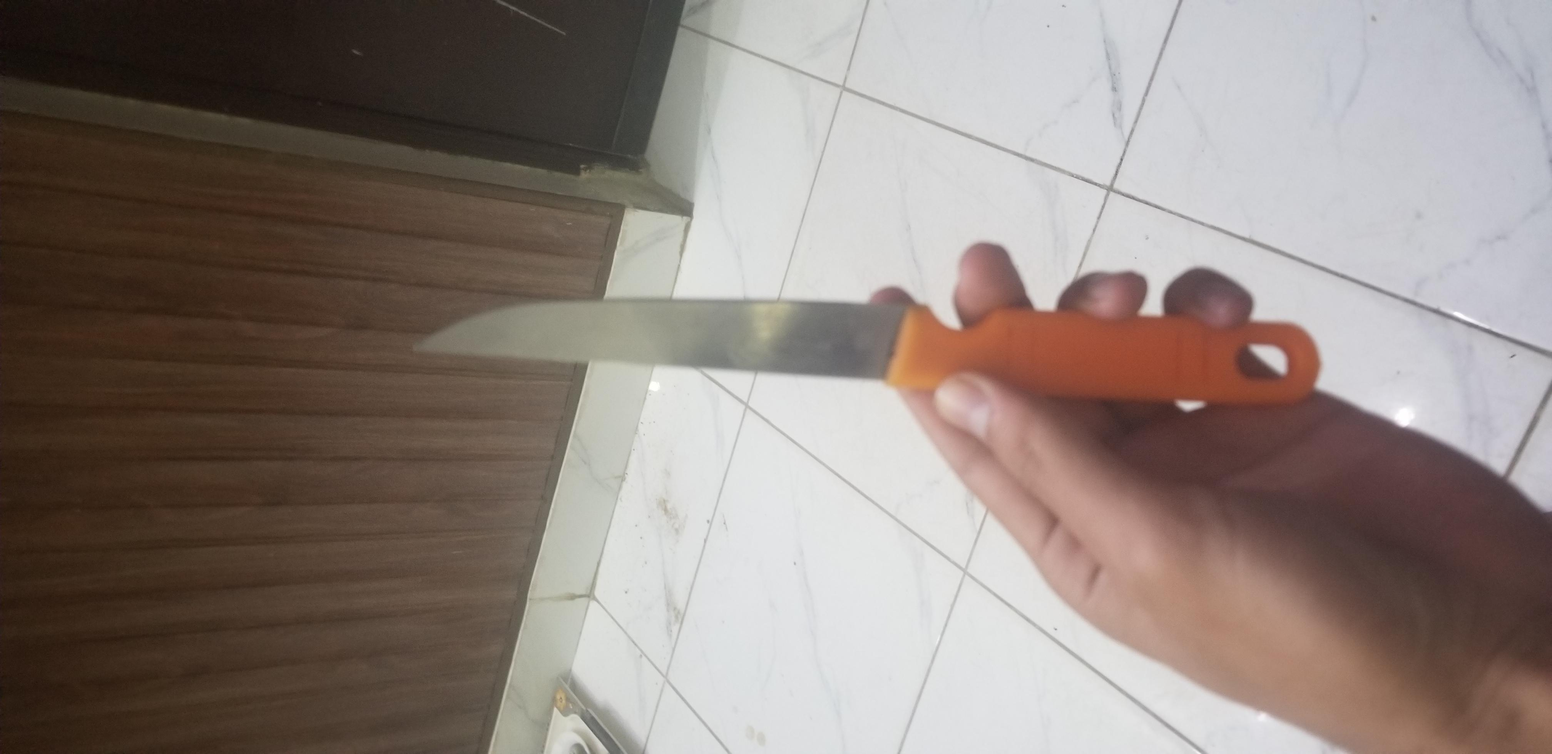knives: (636, 183, 1031, 649)
